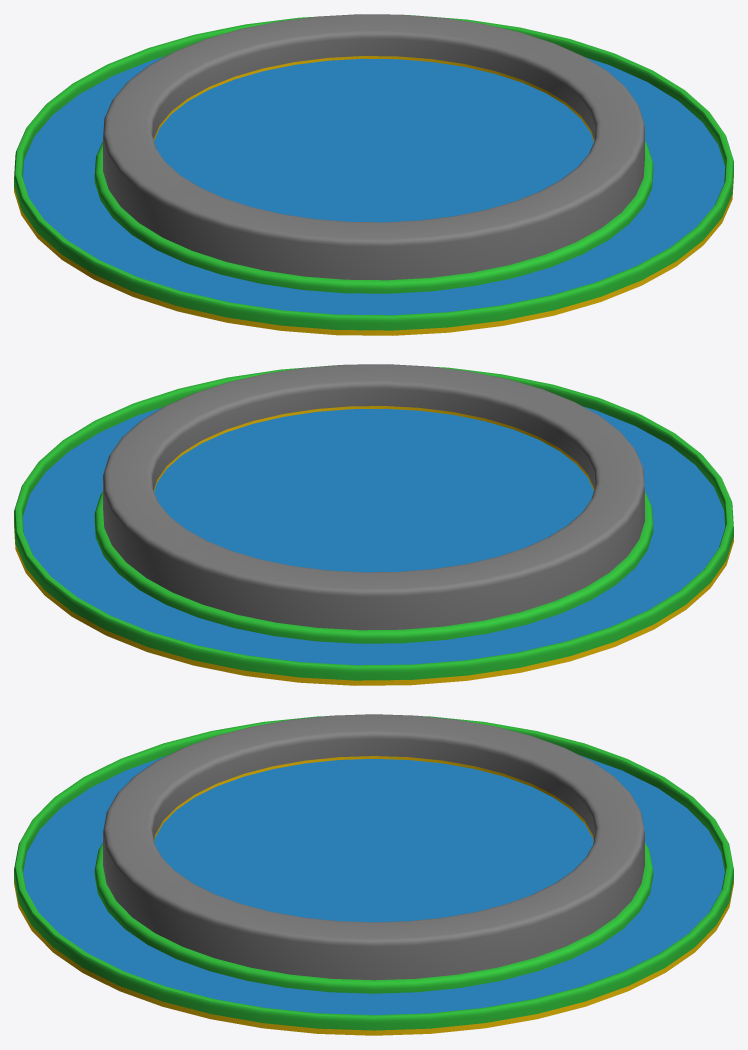
The model's file is Fountain_01.fbx.
3 renders of one model, top to bottom at view 1: azimuth 30°, elevation 25°; view 2: azimuth 150°, elevation 25°; view 3: azimuth 270°, elevation 25°, orthographic.
Visible parts, largest first — view 1: Cylinder001; view 2: Cylinder001; view 3: Cylinder001.
Boxes of the visible parts, x1,y1,x2,y2 form: Cylinder001: (14, 14, 733, 335); Cylinder001: (14, 364, 733, 685); Cylinder001: (14, 714, 733, 1035).
Bounding box in the file's own units: 344 × 29.95 × 344.
